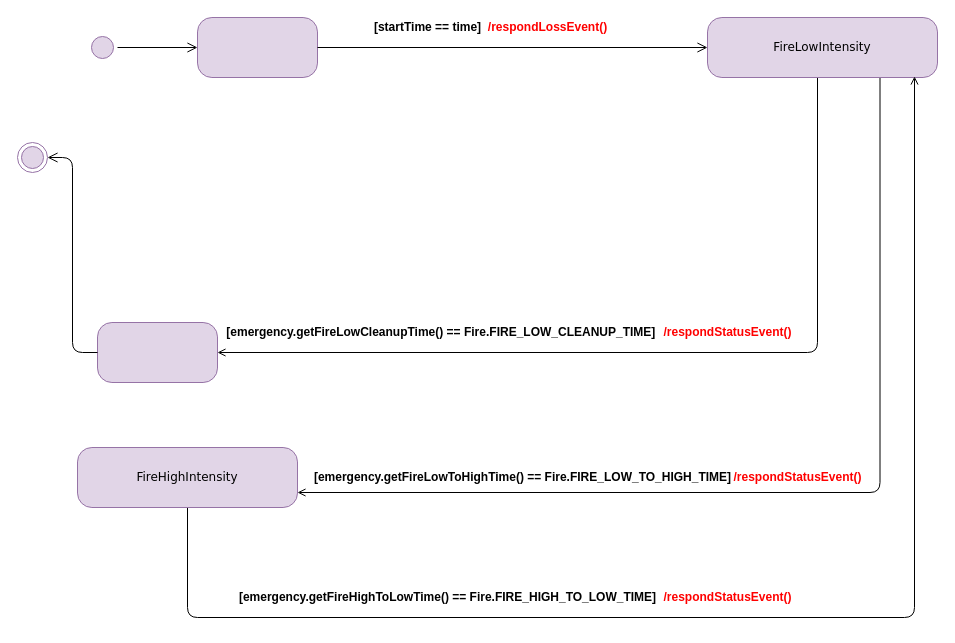
The diagram is 955 pixels wide and 643 high, and some of its shapes have lost their labels. Each missing label, with the box of its shape:
EndEmergency: (96, 322, 218, 382)
idle: (196, 16, 318, 78)
